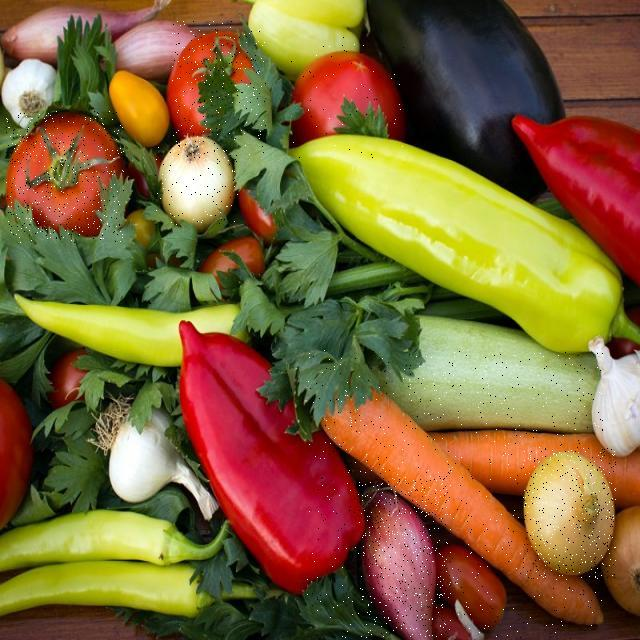Onion: (523, 448, 616, 580), (154, 131, 238, 225)
Shallot: (358, 478, 451, 637)
Tomato: (6, 111, 124, 243), (290, 37, 404, 161), (172, 21, 266, 156)
carrots: (307, 350, 605, 639)
